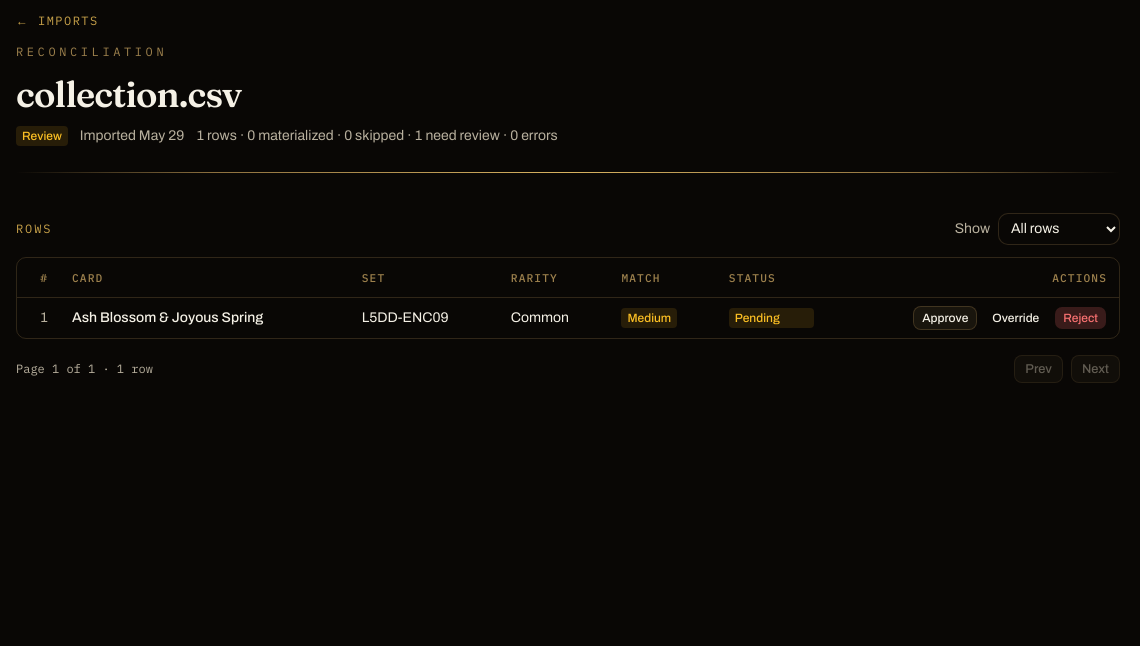
Test: ImportBatchDetail › closes the override picker when the filter changes
Check: the text "Ash Blossom & Joyous Spring" is shown, box [72,308,263,328]
Click the button "Override". click: point(1016, 318)
box: [983,306,1048,330]
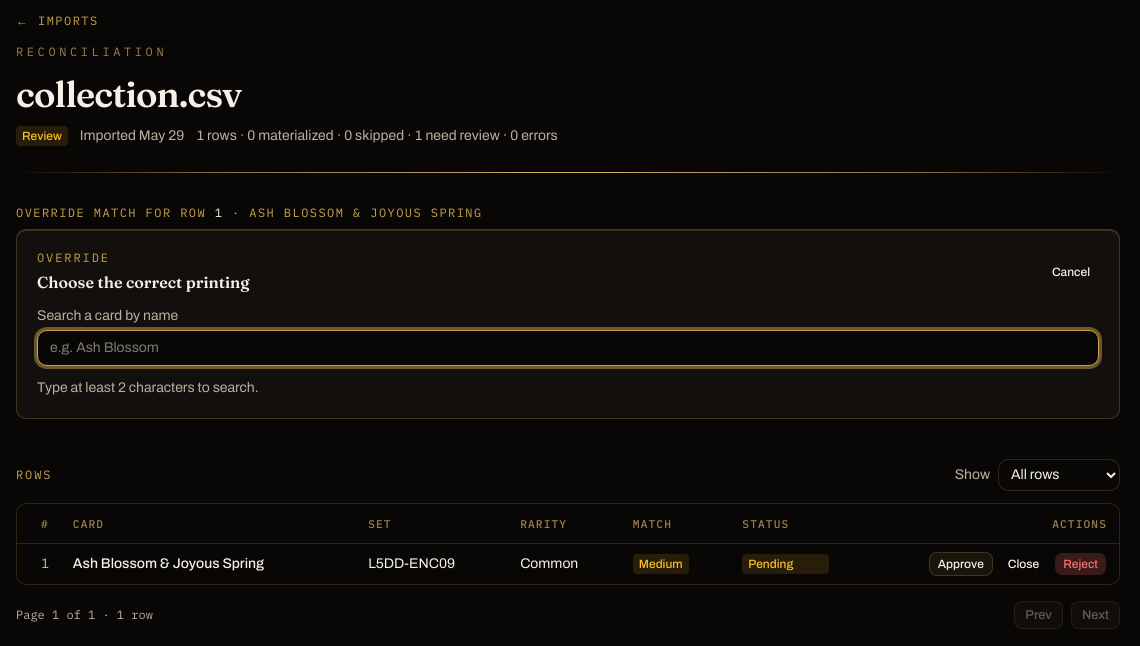
Check: the heading "Choose the correct printing" is shown, box [37,270,250,294]
Select "Needs review" in the dropdown named "filter rows". click: point(1059, 475)
box: [998,459,1120,491]
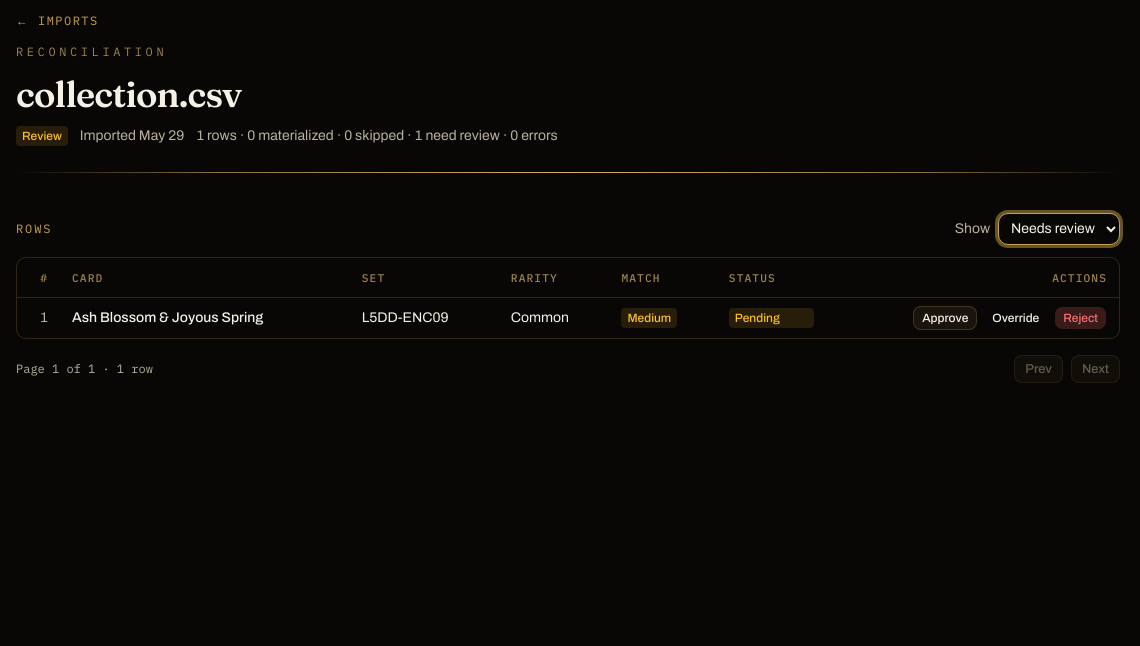
Check: the heading "Choose the correct printing" is gone
